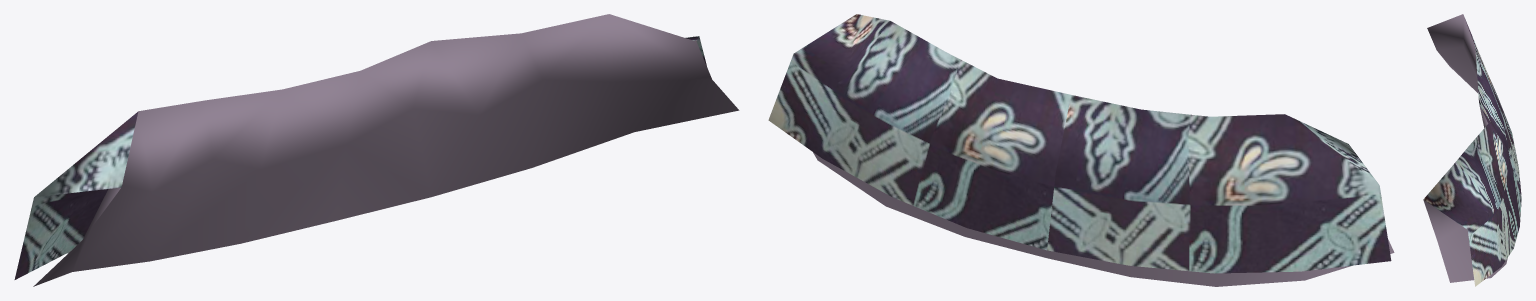
The model's file is Kerah.fbx.
3 views of the same model, side by side, from view 1: azimuth 30°, elevation 25°; view 2: azimuth 150°, elevation 25°; view 3: azimuth 270°, elevation 25° (orthographic). The views are drawn at different scales.
Visible parts, largest first — view 1: Kerah; view 2: Kerah; view 3: Kerah.
Part boxes in pixels (<box>): Kerah: <box>14,14,739,286</box>; Kerah: <box>768,14,1394,286</box>; Kerah: <box>1423,14,1521,286</box>.
Size of the model in its own units: 145 by 37.89 by 27.24.
2 materials, 1 textured.
